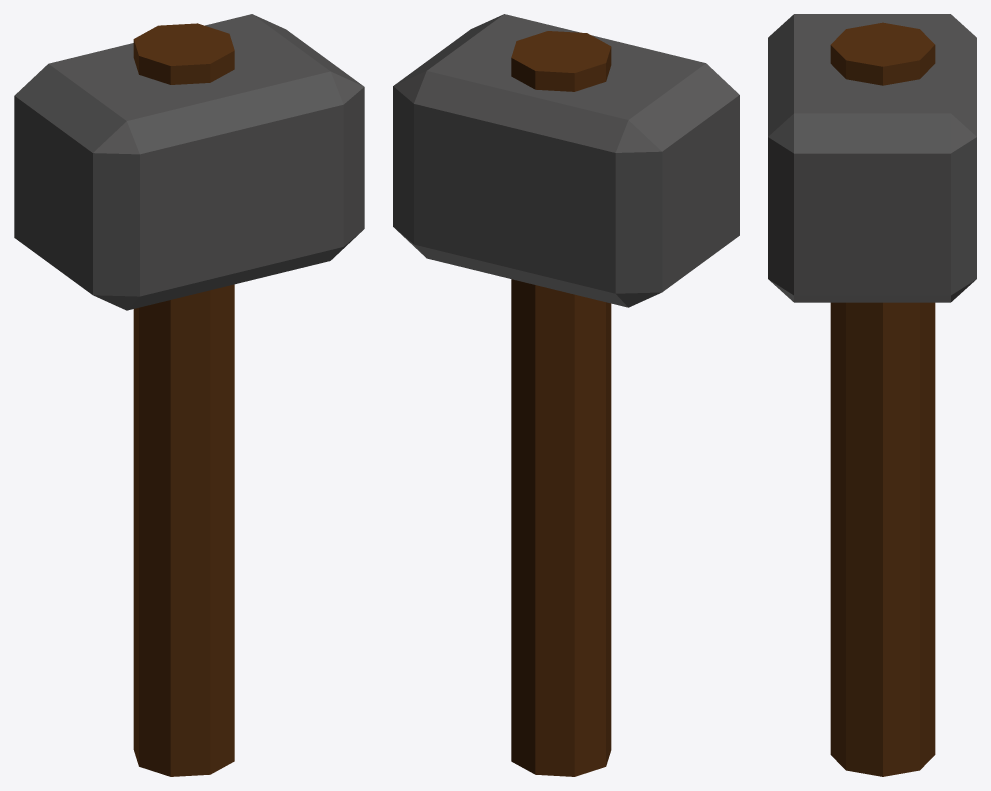
Rendered from mallet 1.fbx.
3 views of the same model, side by side, from view 1: azimuth 30°, elevation 25°; view 2: azimuth 150°, elevation 25°; view 3: azimuth 270°, elevation 25° (orthographic).
Visible parts, largest first — view 1: mergedBlocks; view 2: mergedBlocks; view 3: mergedBlocks.
Part boxes in pixels (x1,y1,x2,y2): mergedBlocks: [14, 14, 364, 776]; mergedBlocks: [393, 14, 739, 776]; mergedBlocks: [768, 14, 976, 776].
Size of the model in its own units: 3 by 7.5 by 2.
